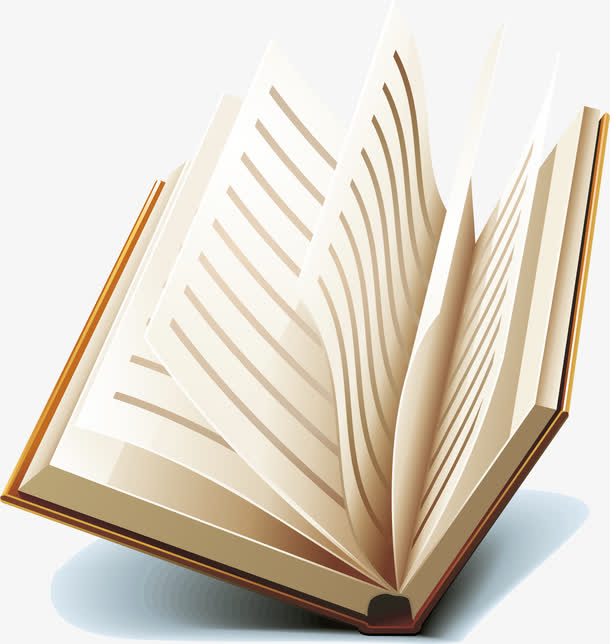book: (5, 10, 606, 632)
